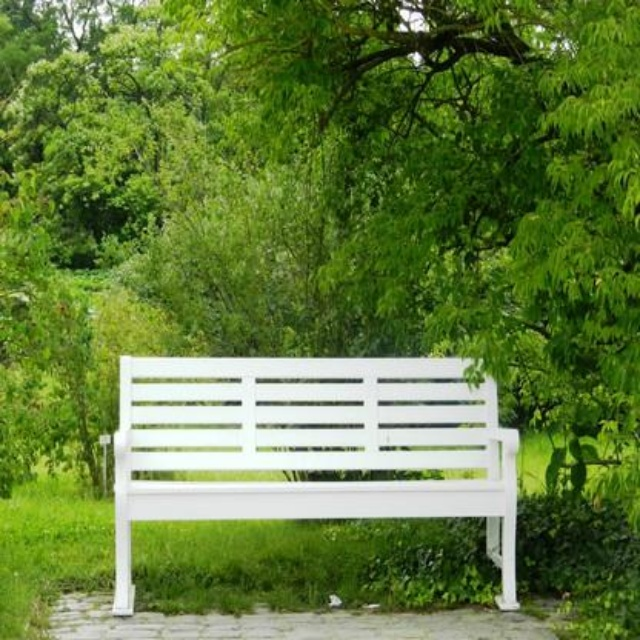obstacle: (97, 348, 529, 620)
